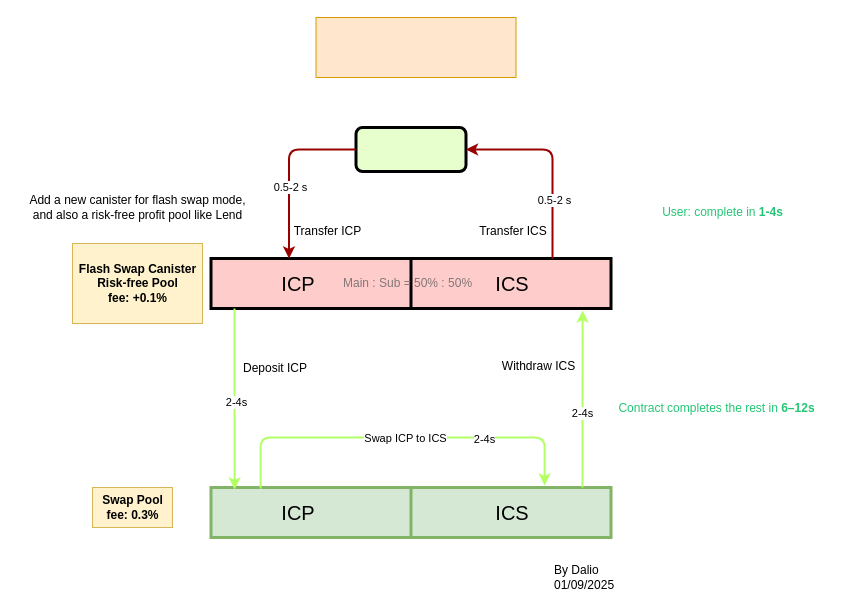
The diagram is 843 pixels wide and 615 high, and some of its shapes have lost their labels. The shapes that lost their labels are listed below. From the top down, each one's centre as x and y in pixels, then its label:
At [415,47]: "Flash Swap Model ICPswap".
At [410,149]: "User".
